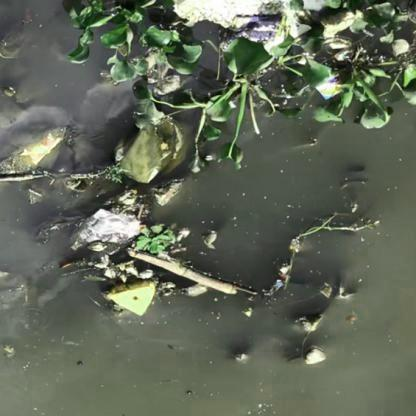Trash: (98, 279, 158, 321), (75, 209, 141, 242), (316, 66, 346, 108)
